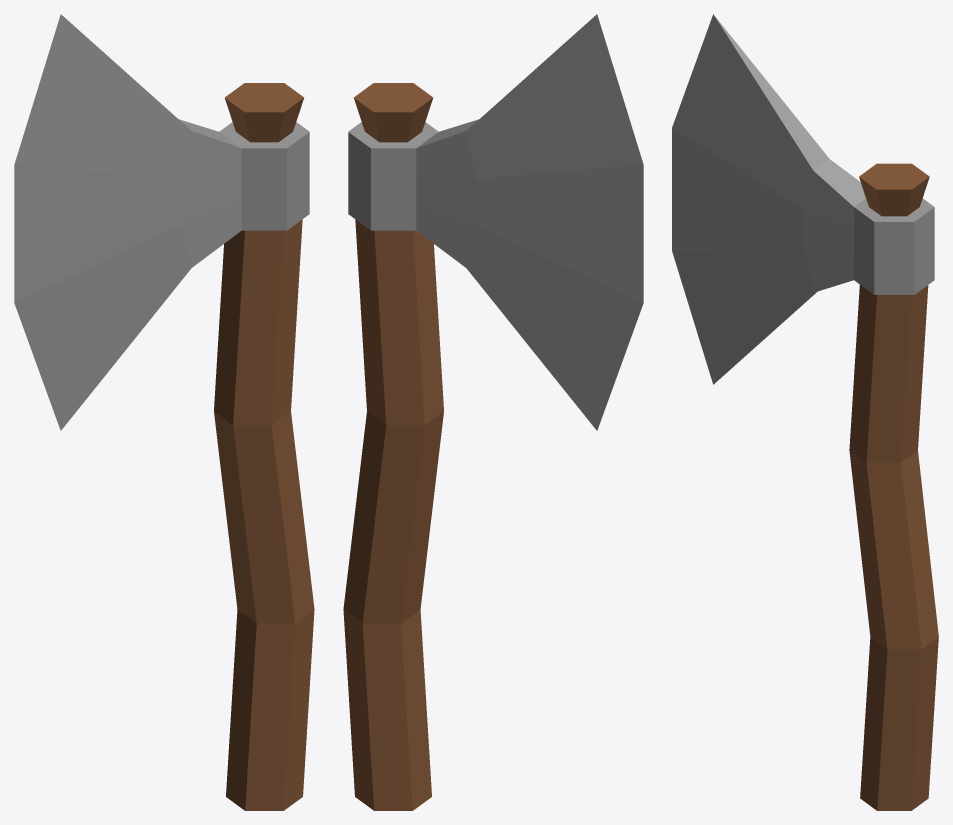
File: Done_Wood_Axe.glb
3 views of the same model, side by side, from view 1: azimuth 30°, elevation 25°; view 2: azimuth 150°, elevation 25°; view 3: azimuth 330°, elevation 25° (orthographic). The views are drawn at different scales.
Parts seen in each view (by area): view 1: Wood Axe; view 2: Wood Axe; view 3: Wood Axe.
Boxes of the visible parts, box(x1,y1,x2,y2) form: Wood Axe: box(14, 14, 314, 810); Wood Axe: box(343, 14, 643, 810); Wood Axe: box(672, 14, 938, 810).
Bounding box in the file's own units: 0.6123 × 1.68 × 0.1656.
